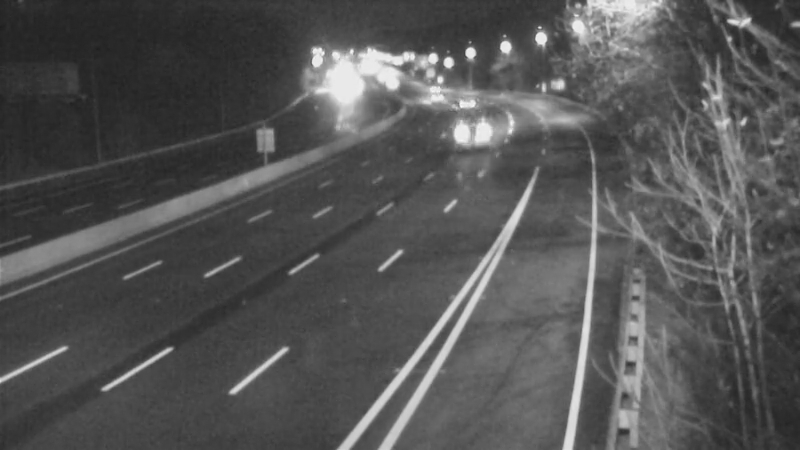vehicle: (441, 77, 491, 127), (442, 106, 492, 156)
